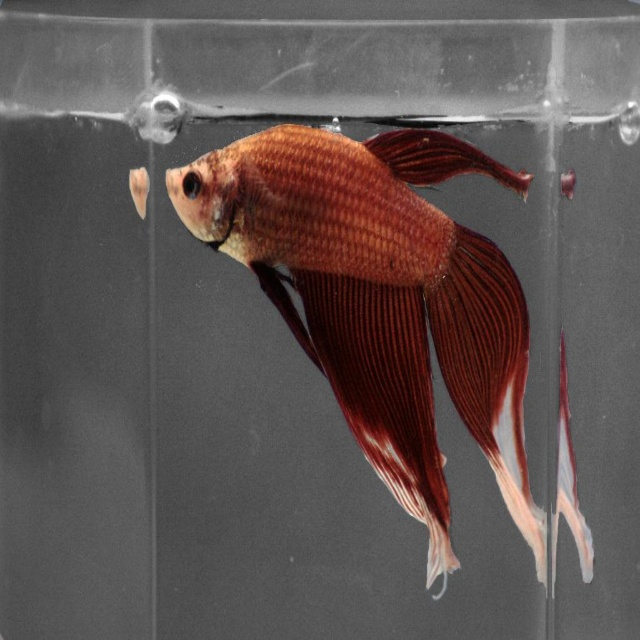Goldfish: (140, 130, 540, 573)
